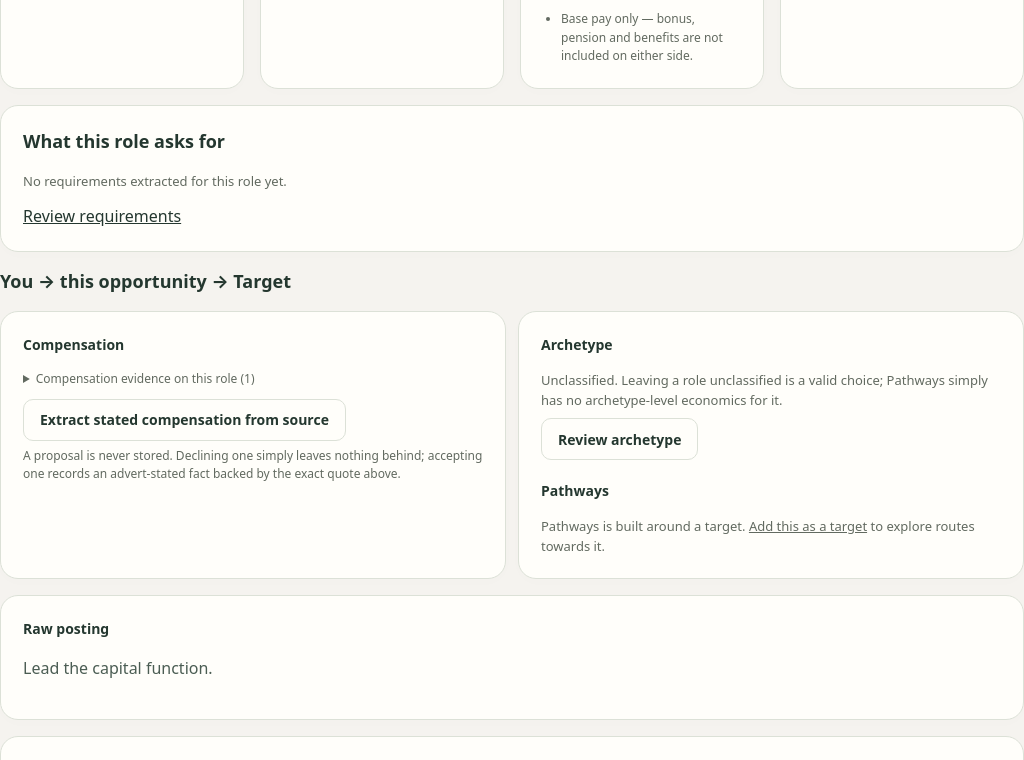
Test: Role Detail — compensation › lets the compensation evidence behind a figure be inspected
(page scrolled)
What coordinates should you click on to do the following:
click the heading "Compensation evidence on this role (1)"
I would click on:
 (145, 379)
Its box is [36,370,254,387].
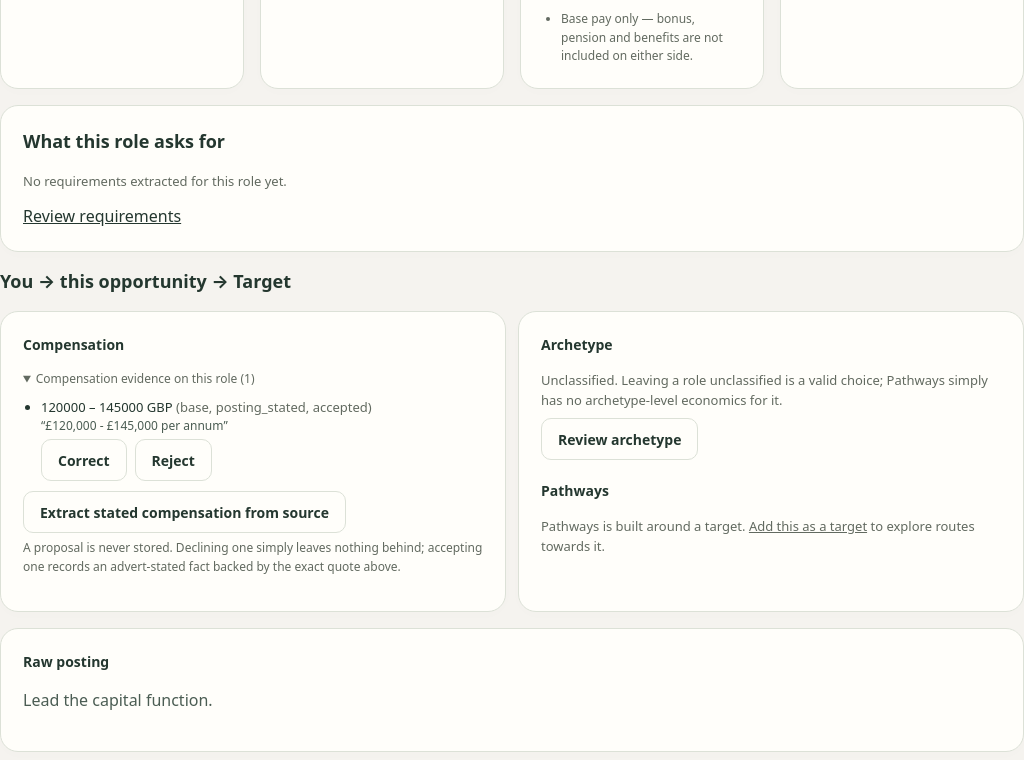
Expected: the text "“£120,000 - £145,000 per annum”" is shown, [41,417,228,434]
